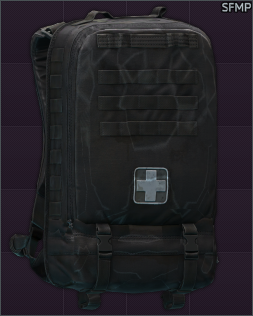LBT-2670 Slim Field Med Pack: (0, 0, 253, 316)
